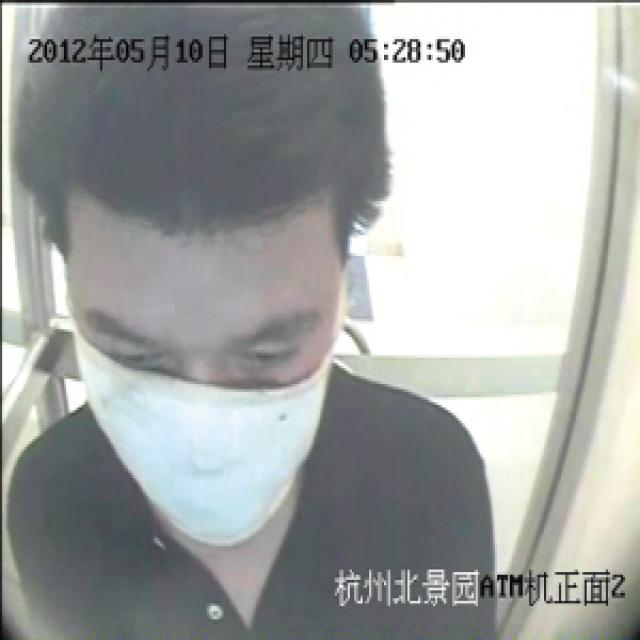mask: (56, 174, 337, 537)
